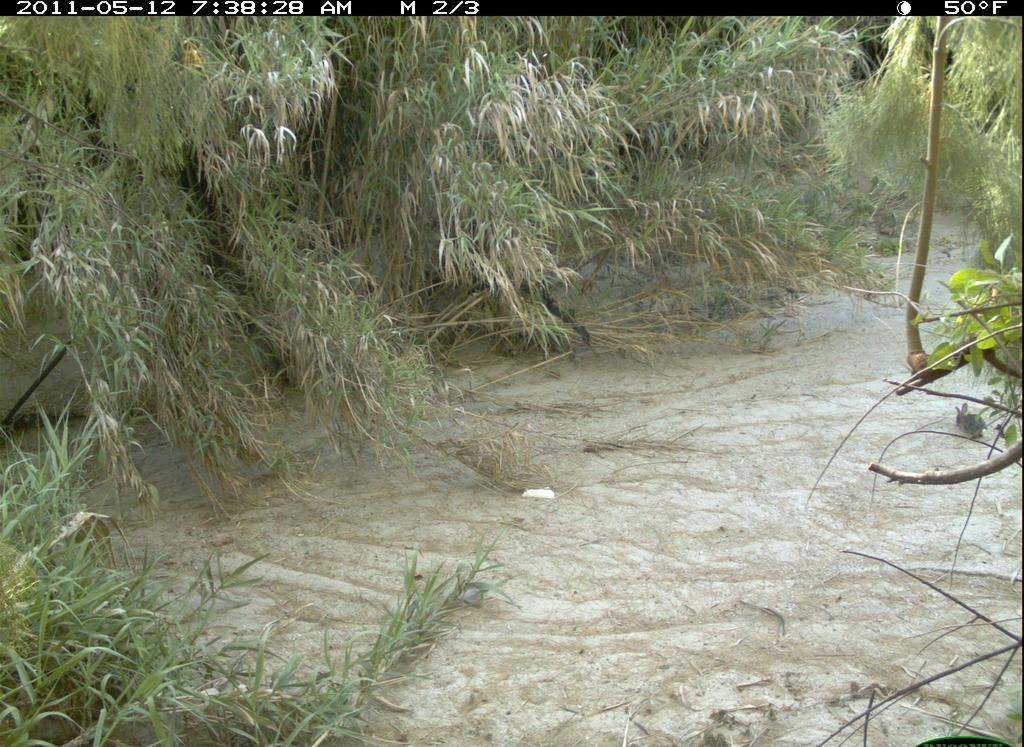rabbit: (952, 399, 991, 451)
